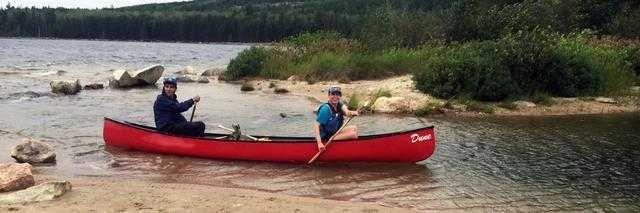kayak: (101, 116, 437, 166)
